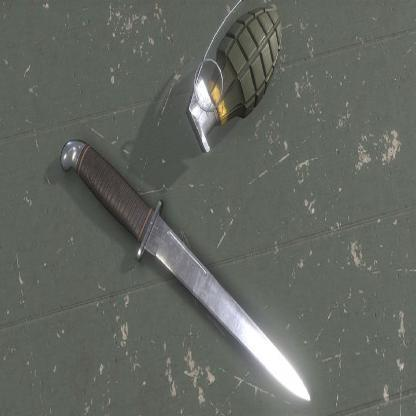Grenade: (187, 1, 283, 154)
Knife: (60, 139, 312, 404)
